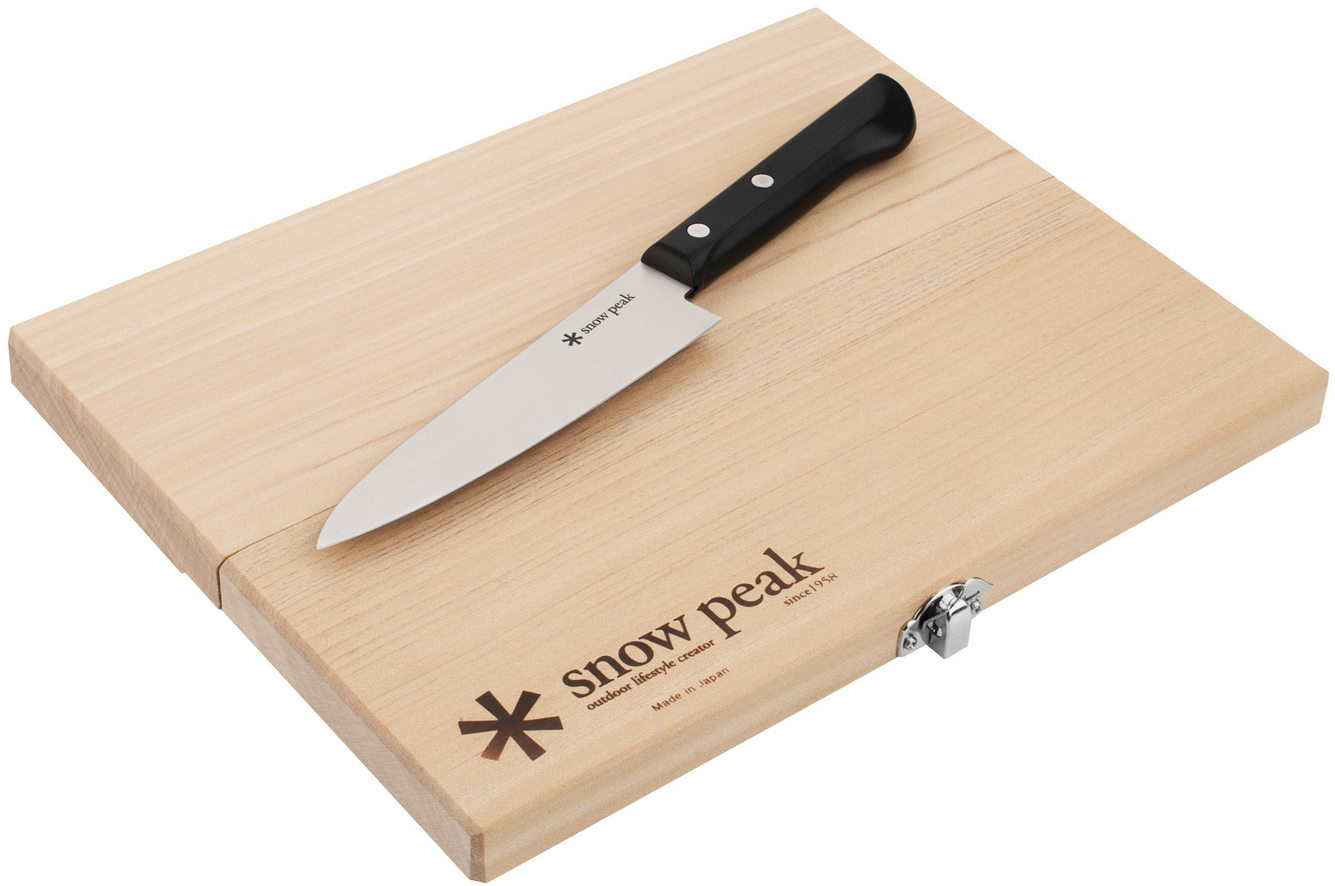gloved_hand: (0, 0, 1335, 882)
